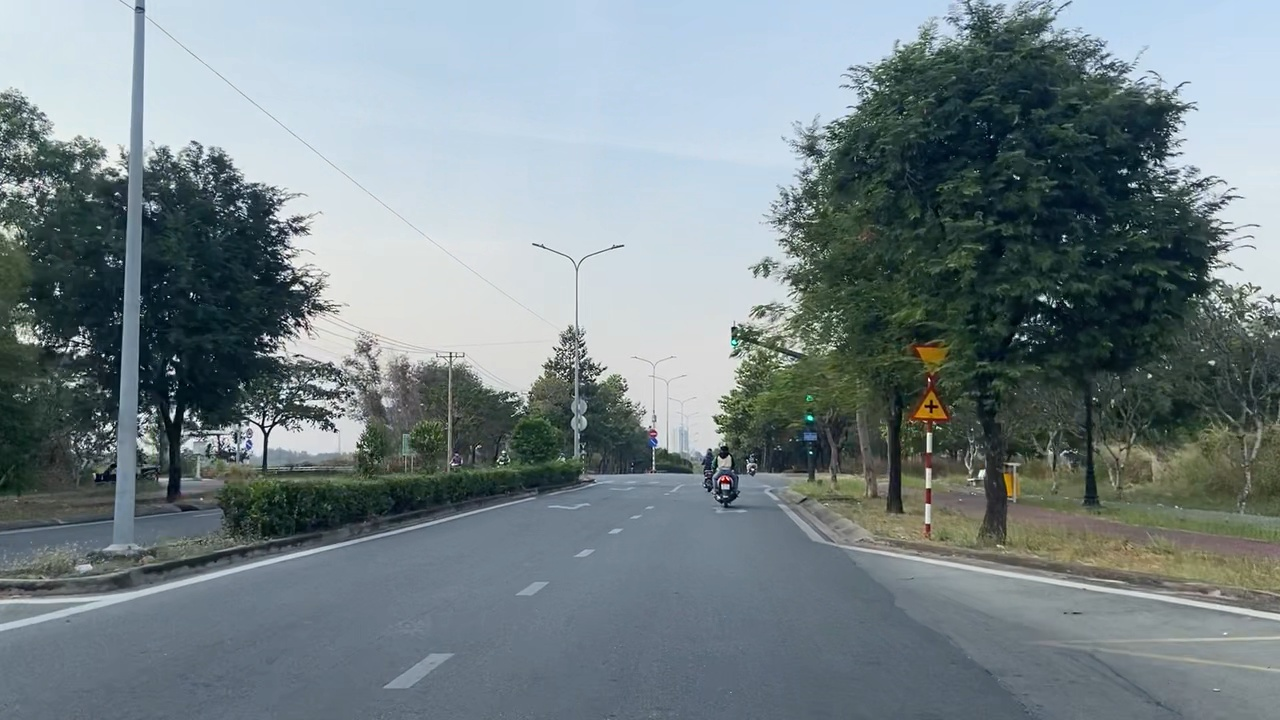giao_nhau_chu_thap: (910, 384, 951, 423)
